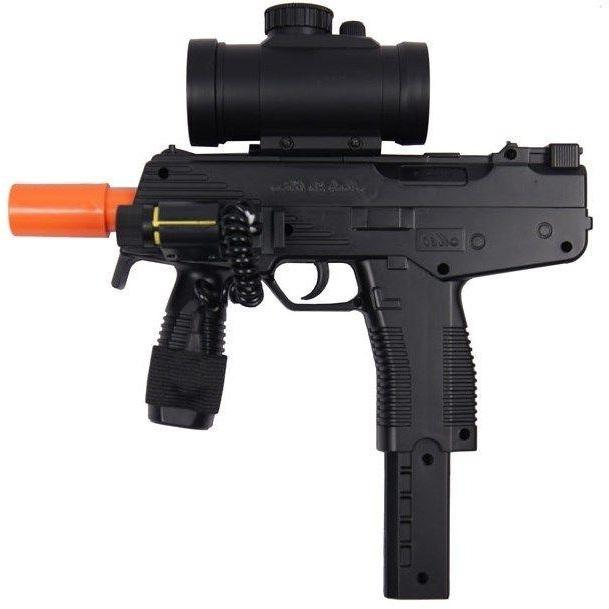Arma Falsa: (6, 3, 595, 609)
